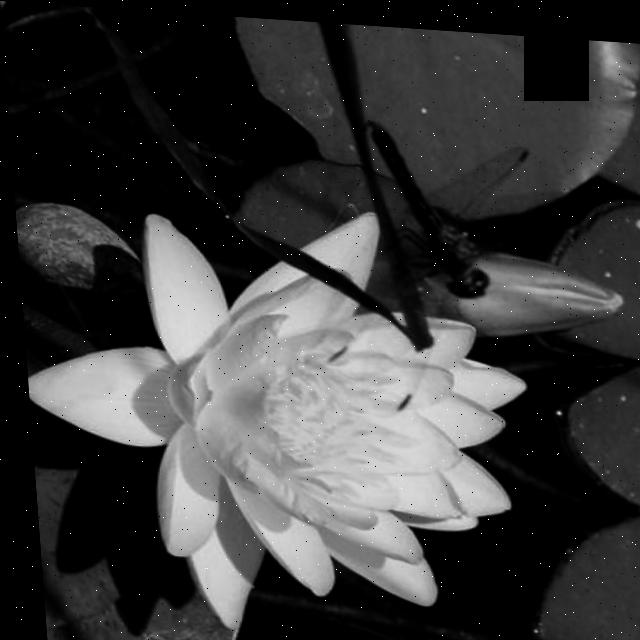water-lily: (7, 127, 545, 624)
